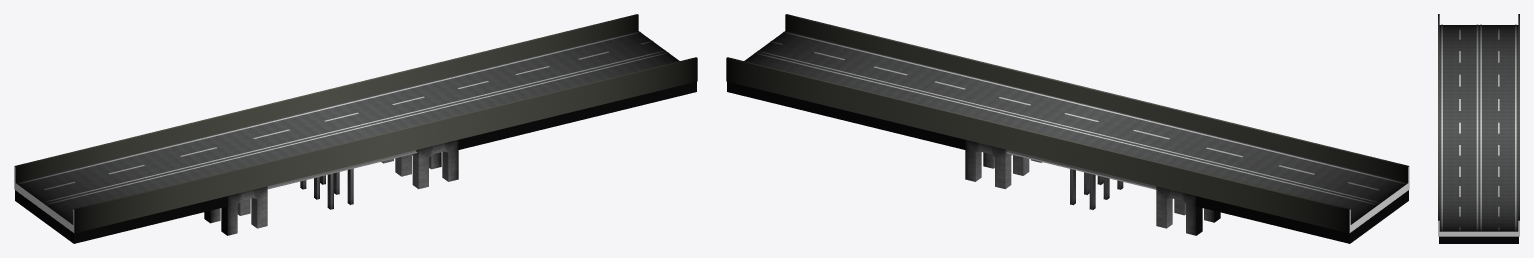
File: RIKKYO00.glb
The picture shows the model from 3 angles, left to right: view 1: azimuth 30°, elevation 25°; view 2: azimuth 150°, elevation 25°; view 3: azimuth 270°, elevation 25°; orthographic projection. The views are drawn at different scales.
Parts seen in each view (by area): view 1: obj59; view 2: obj59; view 3: obj59.
Boxes of the visible parts, x1,y1,x2,y2 form: obj59: (14, 14, 697, 243); obj59: (726, 14, 1409, 243); obj59: (1438, 14, 1519, 243).
Size of the model in its own units: 300 by 29.31 by 50.12.
Materials: 6 (6 with a texture image).
